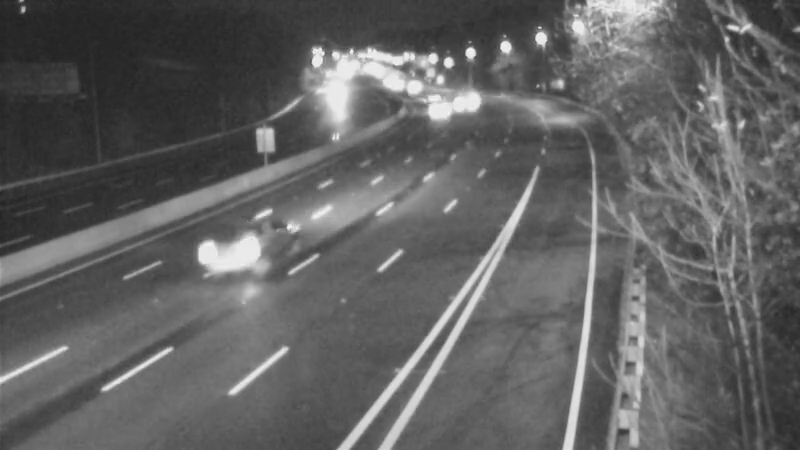vehicle: (175, 222, 255, 302), (437, 76, 487, 126), (417, 80, 467, 130)
